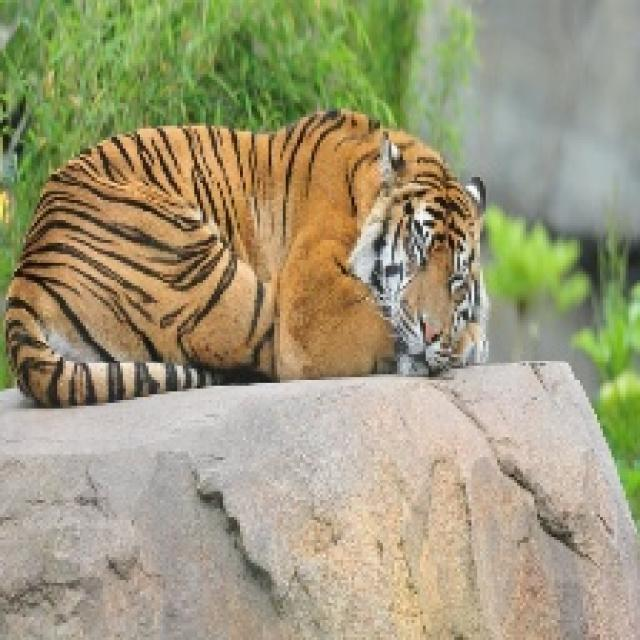bear: (36, 107, 546, 430)
